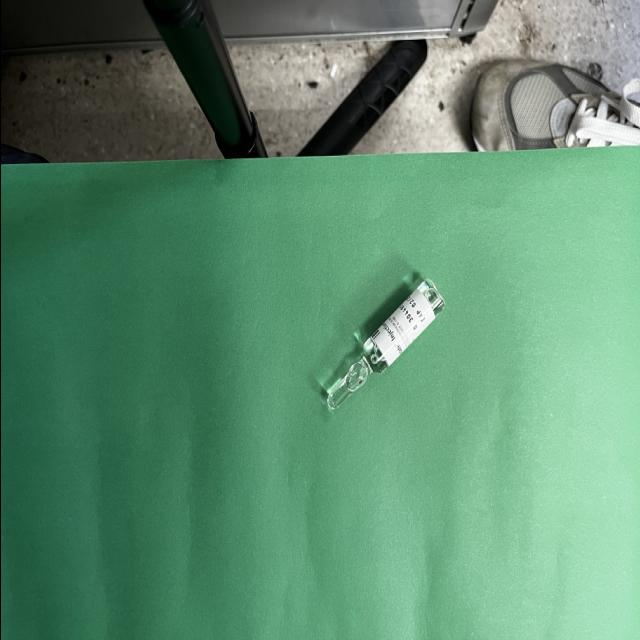Ampoules: (326, 278, 444, 409)
